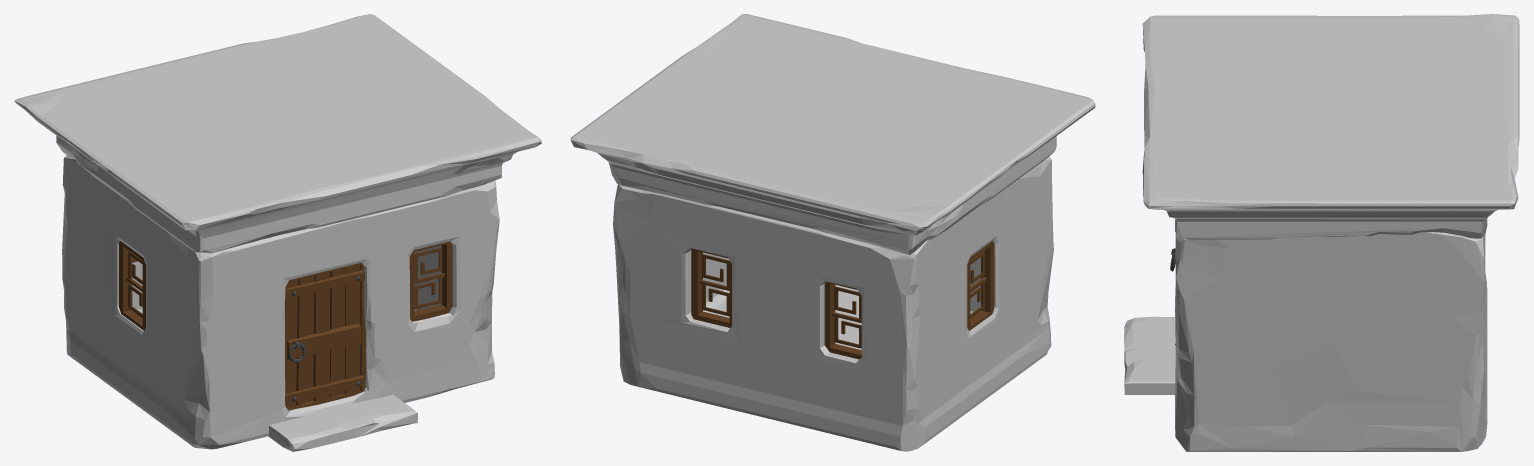
Rendered from SM_building_greek_01.fbx.
3 views of the same model, side by side, from view 1: azimuth 30°, elevation 25°; view 2: azimuth 150°, elevation 25°; view 3: azimuth 270°, elevation 25° (orthographic). The views are drawn at different scales.
Parts seen in each view (by area): view 1: Object492, Object499; view 2: Object492; view 3: Object492.
Part boxes in pixels (<box>): Object492: <box>14,14,541,451</box>; Object499: <box>285,264,364,408</box>; Object492: <box>570,14,1095,451</box>; Object492: <box>1124,14,1519,451</box>.
Bounding box in the file's own units: 225 × 149 × 200.
